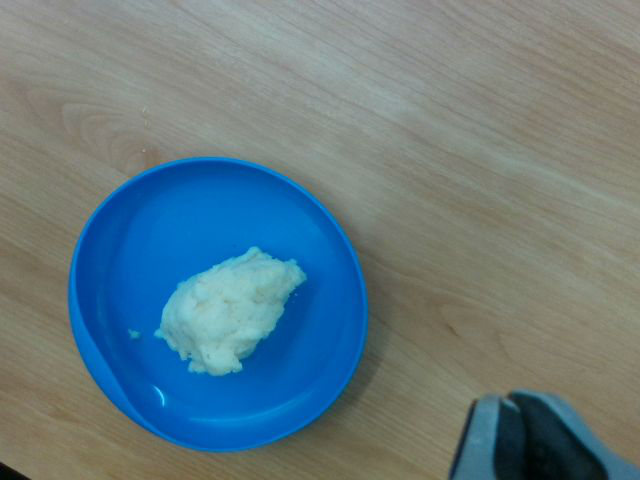mashed_potato: (160, 246, 305, 378)
